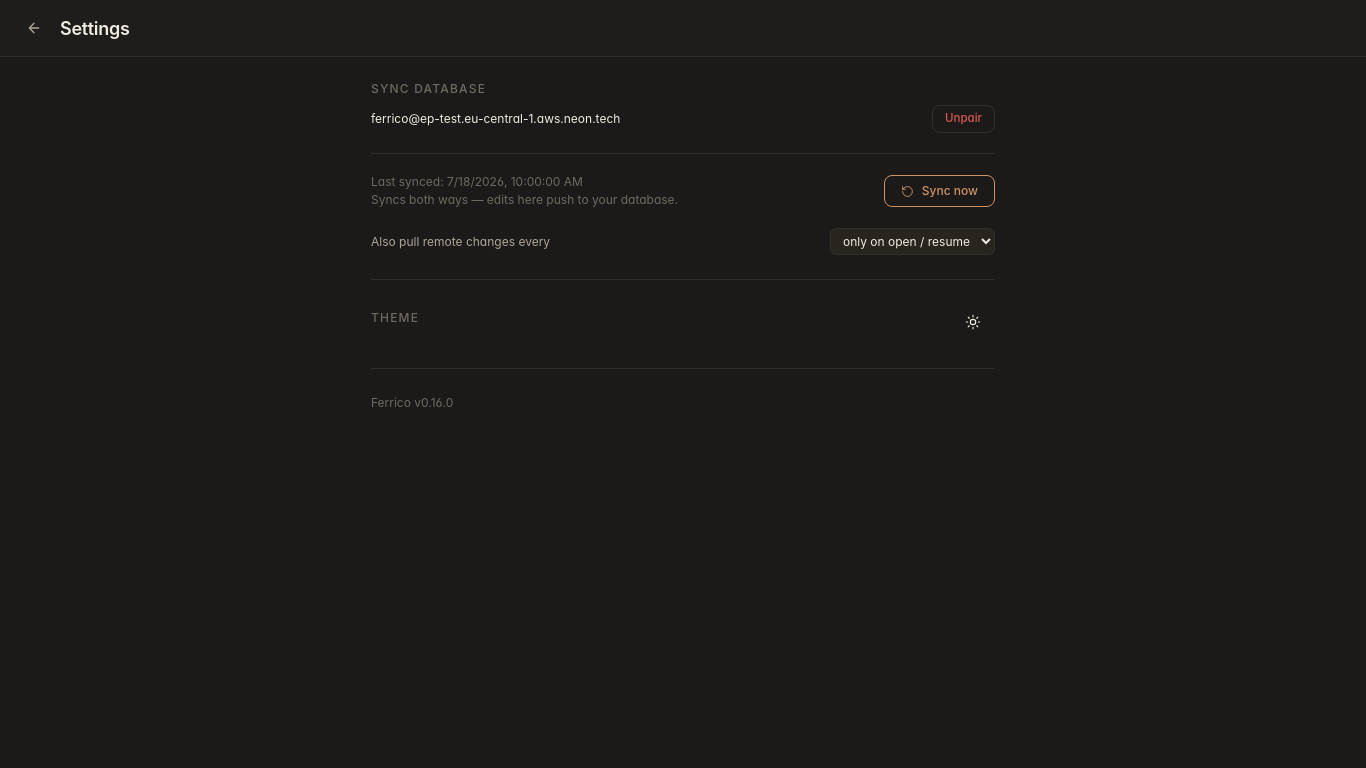
MobileSettings › shows last sync, syncs now, and unpairs from the paired dashboard
expect the text "ferrico@ep-test.eu-central-1.aws.neon.tech" is shown: met, box top-left (371, 111), bottom-right (620, 127)
expect the text "Syncs both ways — edits here push to your database." is shown: met, box top-left (371, 192), bottom-right (678, 208)
Step 1. Click the button "Sync now" → (939, 191), box top-left (884, 175), bottom-right (995, 207)
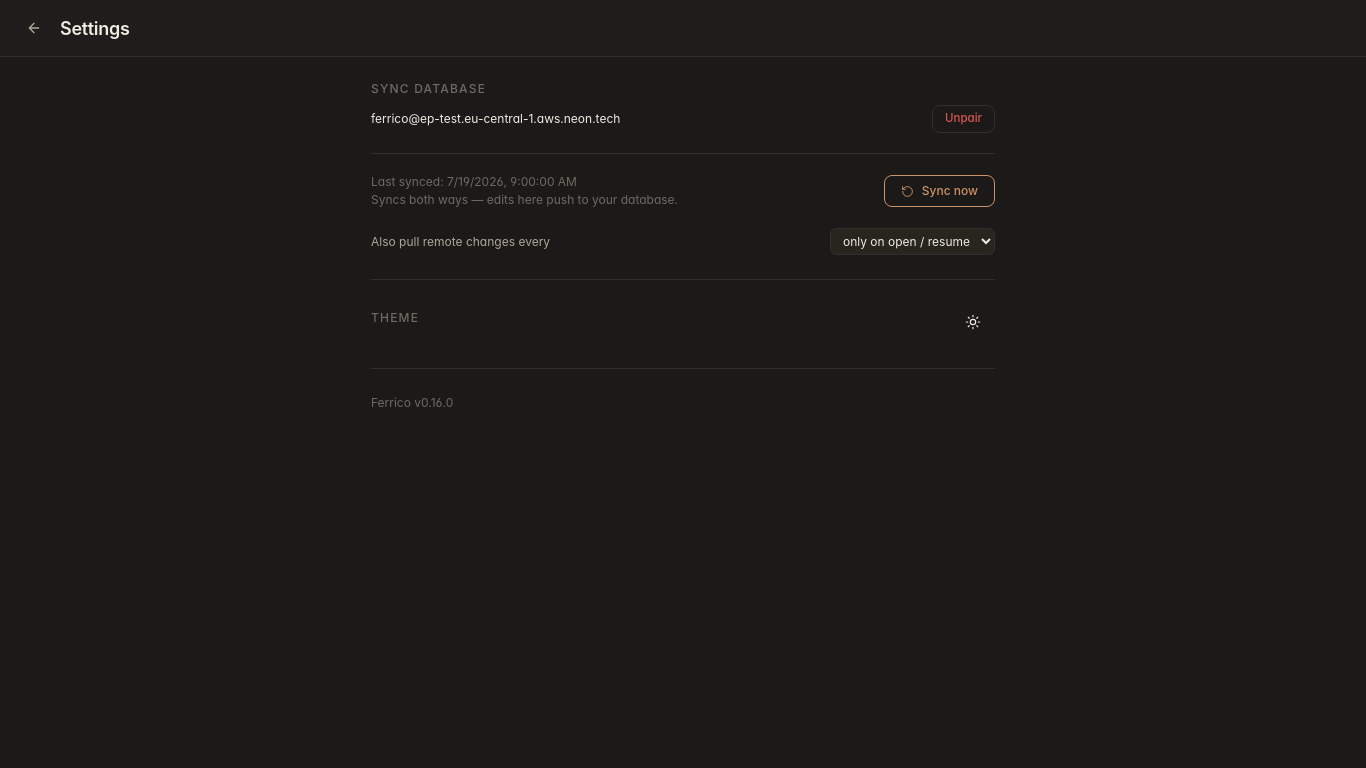
Step 2. Click the button "Unpair" → (964, 119), box top-left (932, 105), bottom-right (995, 133)
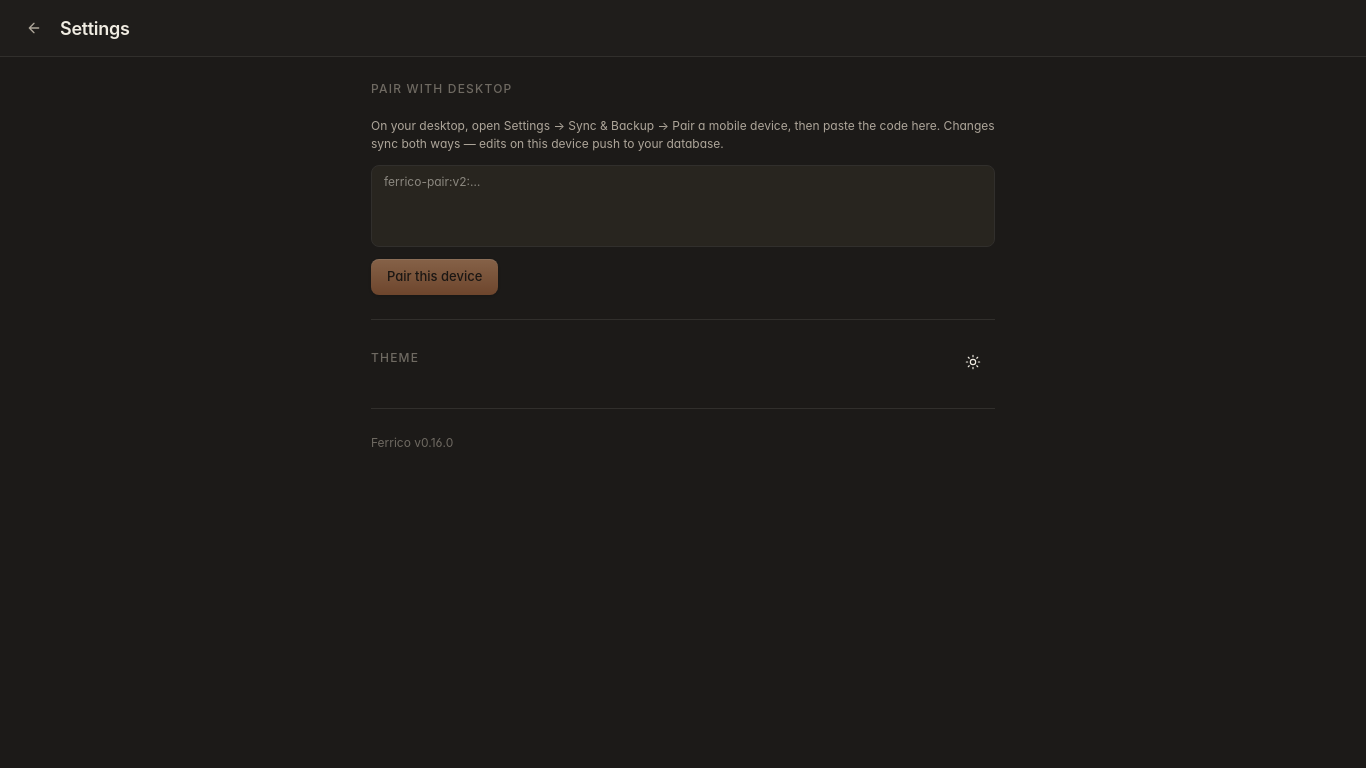
expect the text box named "Pairing code" is shown: met, box top-left (371, 165), bottom-right (995, 247)
